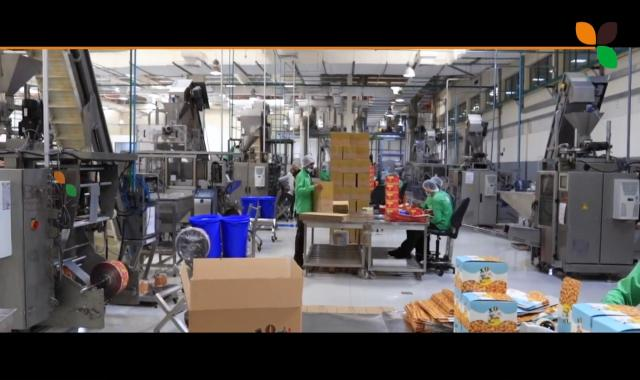hairnet: (423, 178, 438, 195), (302, 154, 312, 167)
